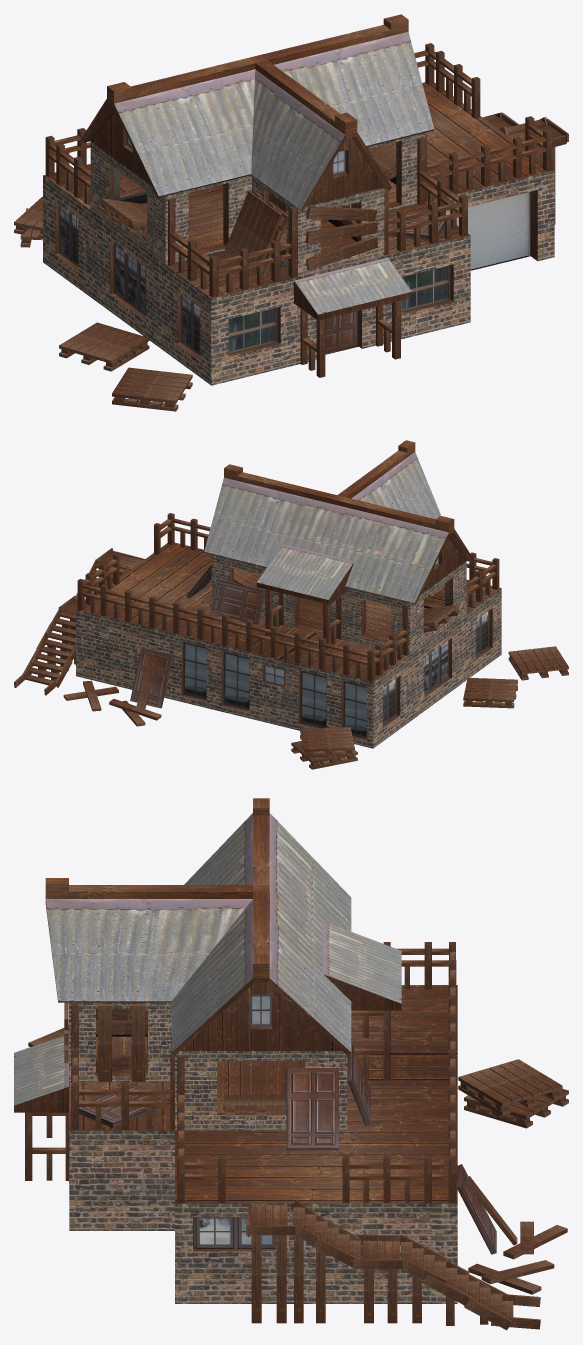
Rendered from House01.obj.
3 renders of one model, top to bottom at view 1: azimuth 30°, elevation 25°; view 2: azimuth 150°, elevation 25°; view 3: azimuth 270°, elevation 25°, orthographic. The views are drawn at different scales.
Visible parts, largest first — view 1: uploads_files_969463_building_collection:group1Box01_ncl1_1; view 2: uploads_files_969463_building_collection:group1Box01_ncl1_1; view 3: uploads_files_969463_building_collection:group1Box01_ncl1_1.
Boxes of the visible parts, x1,y1,x2,y2 form: uploads_files_969463_building_collection:group1Box01_ncl1_1: (14,14,568,411); uploads_files_969463_building_collection:group1Box01_ncl1_1: (14,440,568,769); uploads_files_969463_building_collection:group1Box01_ncl1_1: (14,798,568,1330).
Bounding box in the file's own units: 26.97 × 11.67 × 21.22.
Materials: 1 (1 with a texture image).
